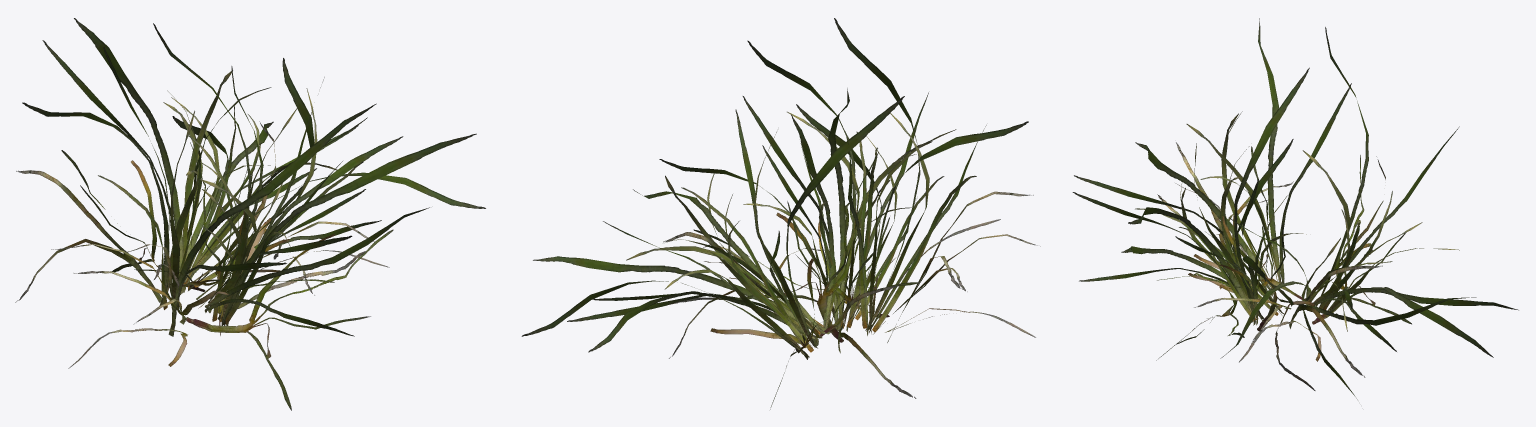
File: grass-medium-01-mid-c.glb
The picture shows the model from 3 angles, left to right: view 1: azimuth 30°, elevation 25°; view 2: azimuth 150°, elevation 25°; view 3: azimuth 270°, elevation 25°; orthographic projection. The views are drawn at different scales.
Parts seen in each view (by area): view 1: grass_medium_01_mid_c; view 2: grass_medium_01_mid_c; view 3: grass_medium_01_mid_c.
Part boxes in pixels (bbox=[...]): grass_medium_01_mid_c: bbox=[15, 18, 485, 410]; grass_medium_01_mid_c: bbox=[521, 18, 1040, 409]; grass_medium_01_mid_c: bbox=[1072, 18, 1518, 399].
Size of the model in its own units: 0.1923 by 0.1446 by 0.2029.
1 material, 1 textured.
